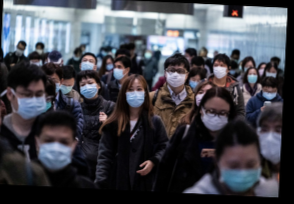with_mask: (218, 154, 261, 194), (36, 133, 72, 171), (13, 86, 46, 120), (257, 122, 282, 163), (201, 105, 228, 132), (124, 84, 145, 108), (167, 65, 187, 89), (79, 78, 99, 99), (212, 62, 228, 80), (112, 62, 126, 81), (59, 81, 74, 95), (80, 57, 94, 72), (263, 87, 277, 101), (188, 76, 201, 91), (247, 71, 259, 85), (266, 70, 277, 79), (104, 60, 113, 70)
